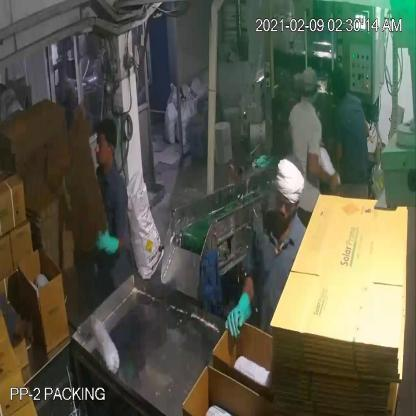glove: (216, 278, 260, 343), (92, 224, 124, 267)
no_glove: (3, 290, 40, 357), (299, 140, 343, 192)
